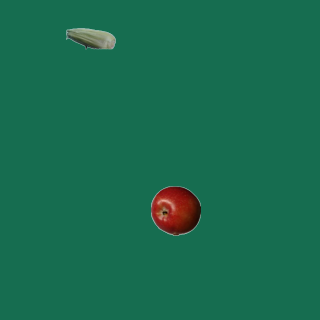Apple Braeburn: (150, 185, 200, 235)
Corn Husk: (65, 13, 115, 63)
